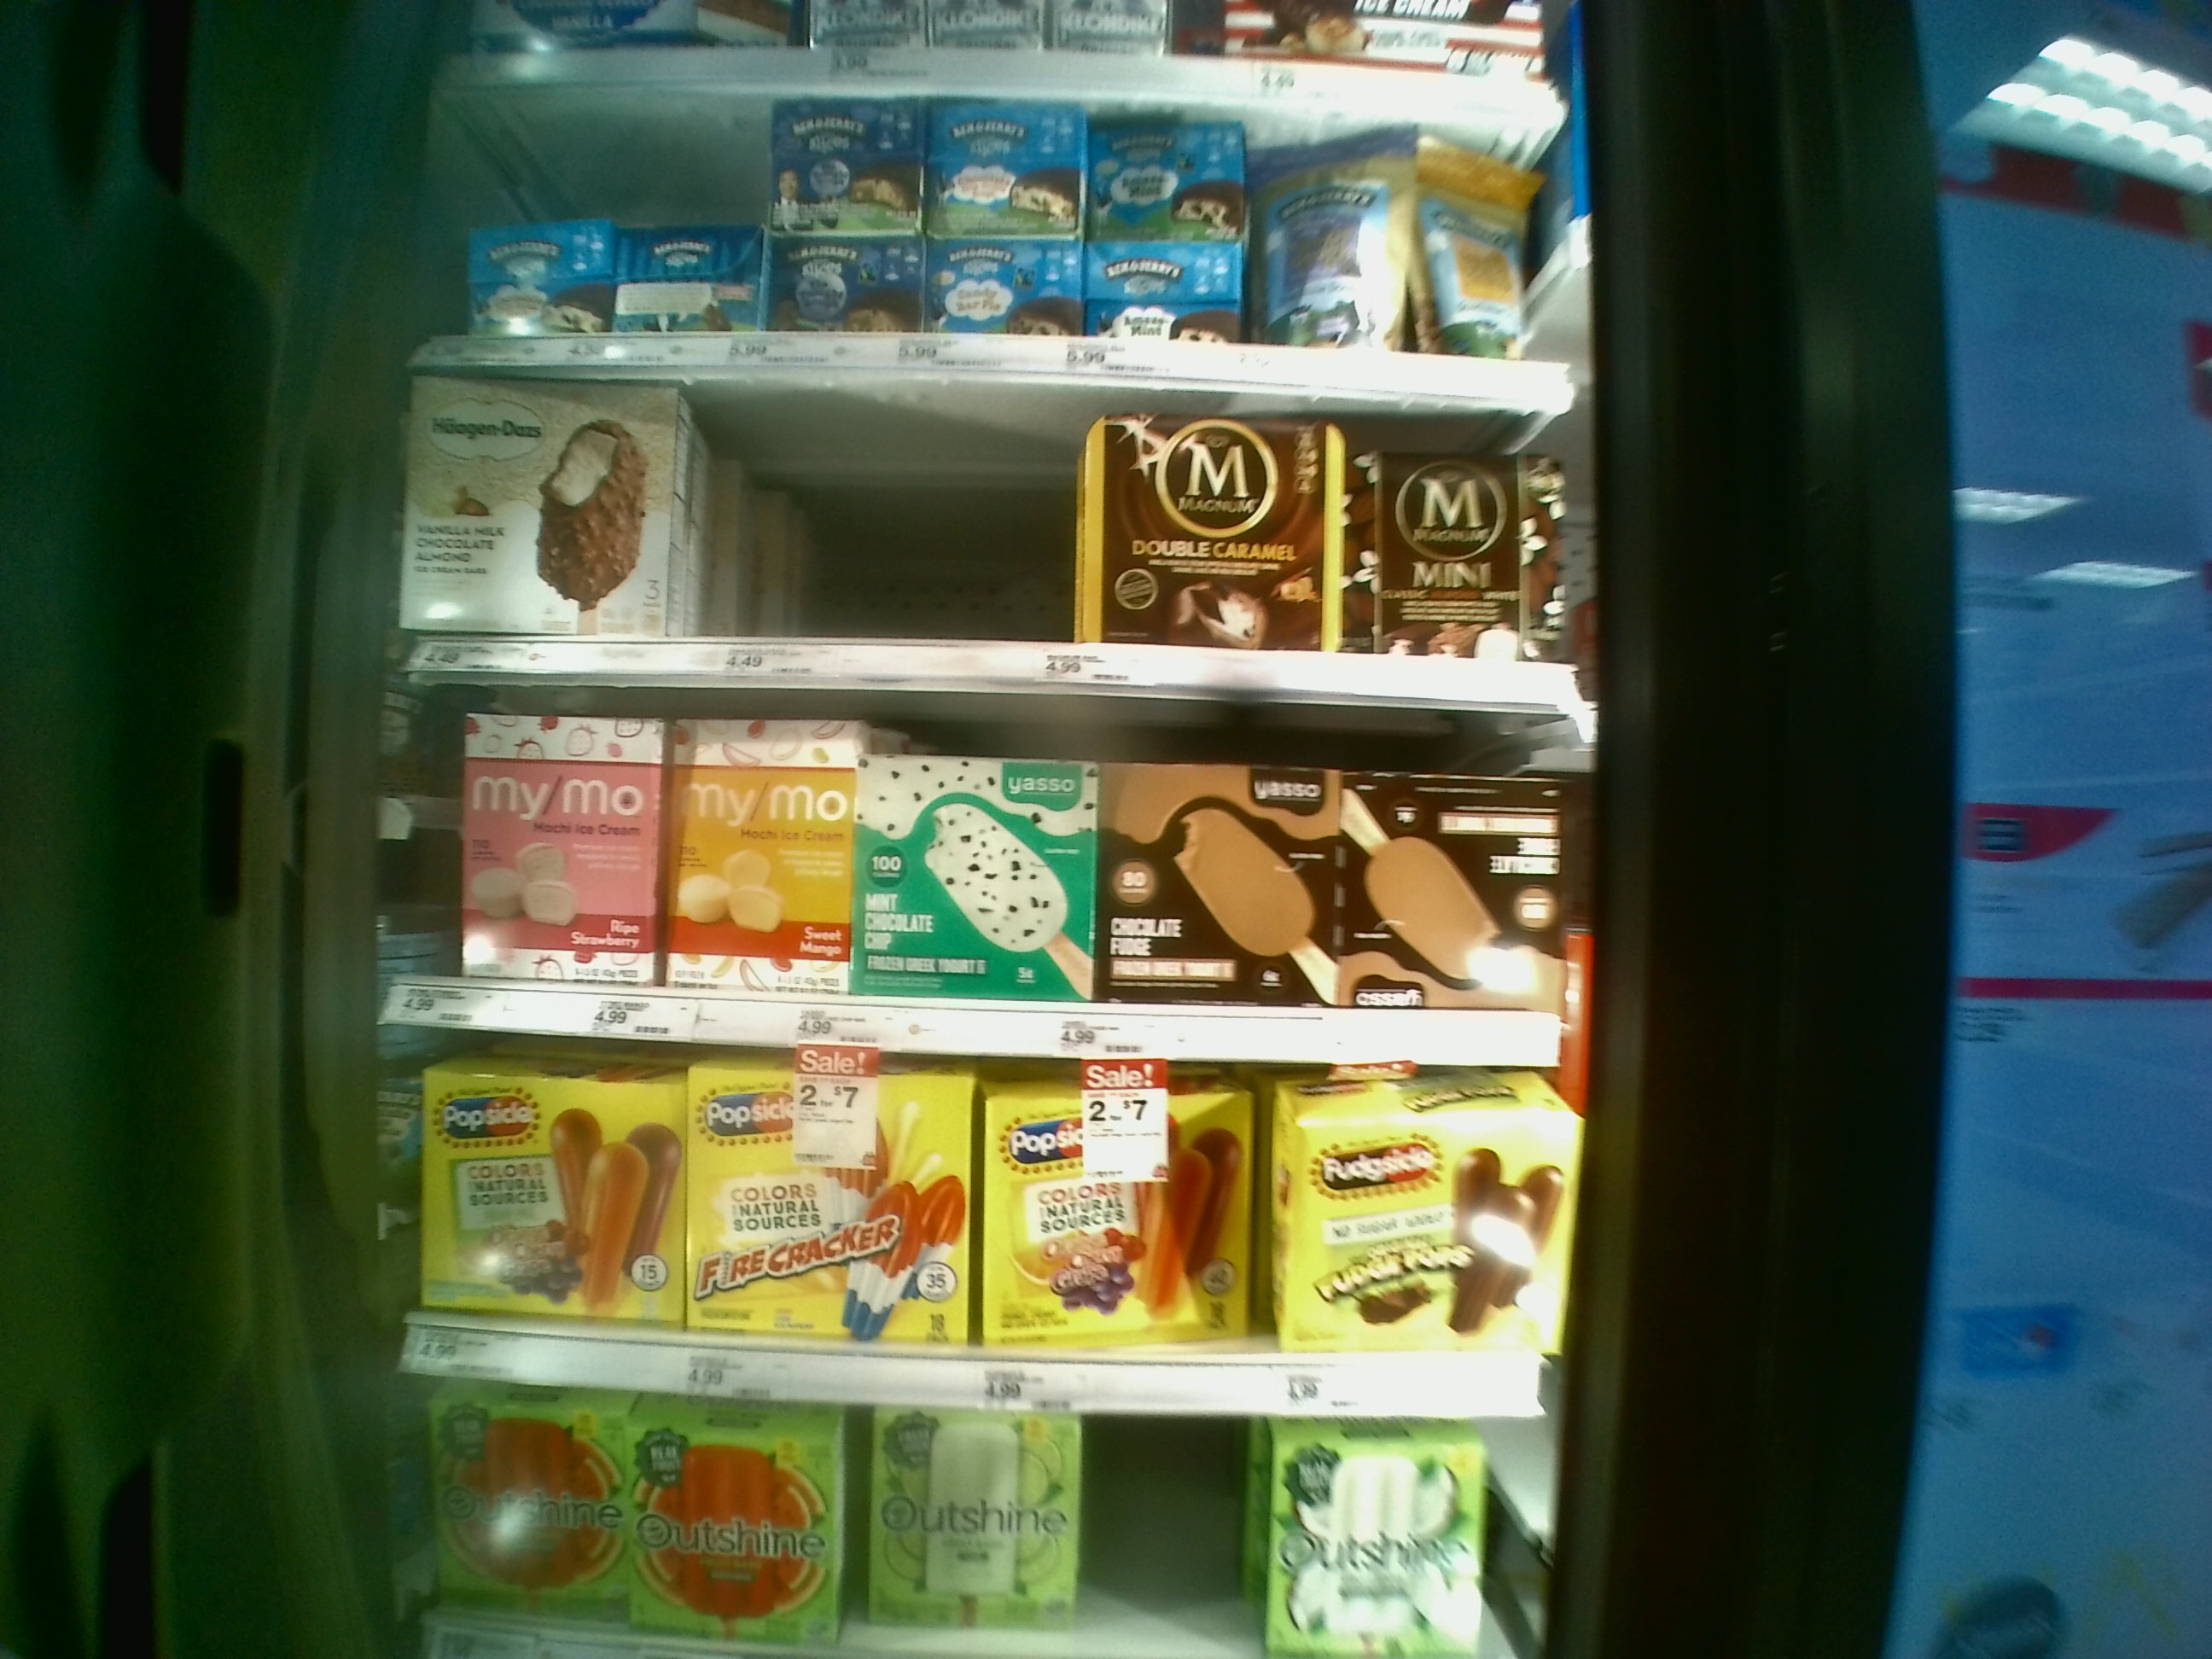ice-cream-shelf: (399, 1046, 1550, 1417), (394, 687, 1559, 1053), (390, 345, 1569, 676), (416, 77, 1559, 369)
